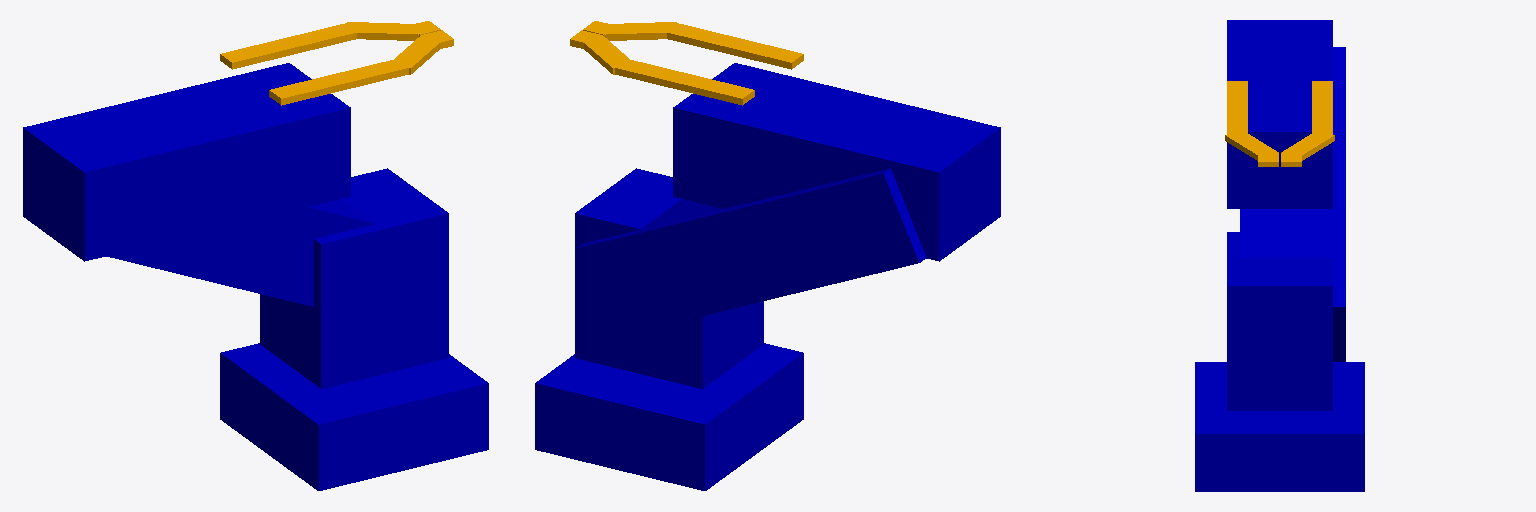
The robot description file, URDF, robot "cobra":
<?xml version="1.0"?>
<robot name="cobra">

  <!-- Mateirals -->
  <material name="blue">
    <color rgba="0 0 0.8 1"/>
  </material>

  <material name="yellow">
    <color rgba="1 0.7 0 1"/>
  </material>

  <!-- Base -->
  <link name="bottom">
    <visual>
      <origin xyz="0 0 0" rpy="0 0 0"/>
      <geometry>
        <box size="0.8 0.8 0.3"/>
      </geometry>
      <material name="blue">
      </material>
    </visual>
    <collision>
      <origin xyz="0 0 0" rpy="0 0 0"/>
      <geometry>
        <box size="0.8 0.8 0.3"/>
      </geometry>
    </collision>
    <inertial>
      <mass value="5.0"/>
      <origin xyz="0 0 0" rpy="0 0 0"/>
      <inertia ixx="0.1" iyy="0.1" izz="0.1" ixy="0" ixz="0" iyz="0"/>
    </inertial>
  </link>

  <!-- Pedestal -->
  <link name="pedestal">
    <visual>
      <origin xyz="0 0 0.3" rpy="0 0 0"/>
      <geometry>
        <box size="0.6 0.5 0.65"/>
      </geometry>
      <material name="blue">
      </material>
    </visual>
    <collision>
      <origin xyz="0 0 0.3" rpy="0 0 0"/>
      <geometry>
        <box size="0.6 0.5 0.65"/>
      </geometry>
    </collision>
    <inertial>
      <mass value="3.0"/>
      <origin xyz="0 0 0.325" rpy="0 0 0"/>
      <inertia ixx="0.05" iyy="0.05" izz="0.05" ixy="0" ixz="0" iyz="0"/>
    </inertial>
  </link>

  <joint name="bottom_to_pedestal" type="revolute">
    <axis xyz="0 0 1"/>
    <limit effort="1000.0" lower="0.0" upper="3.14" velocity="1.0"/>
    <parent link="bottom"/>
    <child link="pedestal"/>
    <origin xyz="0 0 0.25" rpy="0 0 0"/>
  </joint>

  <!-- Arm -->
  <link name="arm">
    <visual>
      <origin xyz="0 0.06 0.6" rpy="0 0 0"/>
      <geometry>
        <box size="0.4 0.5 1.6"/>
      </geometry>
      <material name="blue">
      </material>
    </visual>
    <collision>
      <origin xyz="0 0.06 0.6" rpy="0 0 0"/>
      <geometry>
        <box size="0.4 0.5 1.6"/>
      </geometry>
    </collision>
    <inertial>
      <mass value="4.0"/>
      <origin xyz="0 0.06 0.6" rpy="0 0 0"/>
      <inertia ixx="0.08" iyy="0.08" izz="0.08" ixy="0" ixz="0" iyz="0"/>
    </inertial>
  </link>

  <joint name="pedestal_to_arm" type="revolute">
  
    <axis xyz="0 1 0"/>
    <limit effort="1000.0" lower="0" upper="2.18166157" velocity="1.0"/>  
    <parent link="pedestal"/>
    <child link="arm"/>
    <origin rpy="0 -1.13446401 0" xyz="0 0 0.4"/>
  </joint>

  <!-- Forearm -->
  <link name="forearm">
    <visual>
      <origin xyz="-0.1 0 0.3" rpy="0 0 0"/>
      <geometry>
        <box size="0.4 0.5 1.25"/>
      </geometry>
      <material name="blue">
      </material>
    </visual>
    <collision>
      <origin xyz="-0.1 0 0.3" rpy="0 0 0"/>
      <geometry>
        <box size="0.4 0.5 1.25"/>
      </geometry>
    </collision>
    <inertial>
      <mass value="3.0"/>
      <origin xyz="-0.1 0 0.3" rpy="0 0 0"/>
      <inertia ixx="0.05" iyy="0.05" izz="0.05" ixy="0" ixz="0" iyz="0"/>
    </inertial>
  </link>

  <joint name="arm_to_forearm" type="revolute">
    <axis xyz="0 -1 0"/>
    <limit effort="1000.0" lower="0" upper="2.70526034" velocity="1.0"/>
    <parent link="arm"/>
    <child link="forearm"/>
    <origin rpy="0 2.70526034 0" xyz="0 0 1.2"/>
  </joint>

  <!-- Platform -->
  <link name="platform">
    <visual>
      <origin xyz="0 0 0" rpy="0 0 0"/>
      <geometry>
        <box size="0.03 0.5 0.5"/>
      </geometry>
      <material name="blue">
      </material>
    </visual>
    <collision>
      <origin xyz="0 0 0" rpy="0 0 0"/>
      <geometry>
        <box size="0.03 0.5 0.5"/>
      </geometry>
    </collision>
    <inertial>
      <mass value="0.5"/>
      <origin xyz="0 0 0.25" rpy="0 0 0"/>
      <inertia ixx="0.01" iyy="0.01" izz="0.01" ixy="0" ixz="0" iyz="0"/>
    </inertial>
  </link>

  <joint name="forearm_to_platform" type="fixed">
    <parent link="forearm"/>
    <child link="platform"/>
    <origin xyz="-0.2 0 0.6" rpy="0 0 0"/>
  </joint>

  <!-- Left Gripper -->
  <link name="left_gripper">
    <visual>
      <origin xyz="-0.1 -0.05 0.15" rpy="0 0 0"/>
      <geometry>
        <box size="0.03 0.1 0.6"/> 
      </geometry>
      <material name="yellow">
      </material>
    </visual>
    <collision>
      <geometry>
        <box size="0.03 0.1 0.6"/>
      </geometry>
    </collision>
  </link>

  <joint name="left_gripper_joint" type="revolute">
    <axis xyz="1 0 0"/>
    <limit effort="1000" lower="0" upper="0.523599" velocity="1.0"/>
    <parent link="platform"/>
    <child link="left_gripper"/>
    <origin xyz="-0.1 -0.15 0.15" rpy="0 0 0"/>
  </joint>

    <!-- Left Tip of Gripper -->
  <link name="left_tip_gripper">
    <visual>
      <origin xyz="0 0 0.12" rpy="0 0 0"/>
      <geometry>
        <box size="0.03 0.1 0.3"/> 
      </geometry>
      <material name="yellow">
      </material>
    </visual>
    <collision>
      <geometry>
        <box size="0.03 0.1 0.3"/>
      </geometry>
    </collision>
  </link>

  <joint name="left_tip_gripper_joint" type="fixed">
    <axis xyz="1 0 0"/>
    <parent link="left_gripper"/>
    <child link="left_tip_gripper"/>
    <origin xyz="-0.1 -0.05 0.45" rpy="-0.6 0 0"/>
  </joint>

      <!-- Left point of Tip -->
  <link name="left_point_tip_gripper">
    <visual>
      <origin xyz="0 0.005 0.04" rpy="0 0 0"/>
      <geometry>
        <box size="0.03 0.1 0.1"/> 
      </geometry>
      <material name="yellow">
      </material>
    </visual>
    <collision>
      <geometry>
        <box size="0.03 0.1 0.1"/>
      </geometry>
    </collision>
  </link>

  <joint name="left_point_tip_gripper_joint" type="fixed">
    <axis xyz="1 0 0"/>
    <parent link="left_tip_gripper"/>
    <child link="left_point_tip_gripper"/>
    <origin xyz="0 0 0.25" rpy="0.6 0 0"/>
  </joint>

  <!-- Right Gripper -->
  <link name="right_gripper">
    <visual>
      <origin xyz="-0.1 0.05 0.15" rpy="0 0 0"/>
      <geometry>
        <box size="0.03 0.1 0.6"/>
      </geometry>
      <material name="yellow">
      </material>
    </visual>
    <collision>
      <geometry>
        <box size="0.03 0.1 0.6"/>
      </geometry>
    </collision>
  </link>
  
  <joint name="right_gripper_joint" type="revolute">
    <axis xyz="-1 0 0"/>
    <limit effort="1000" lower="0" upper="0.523599" velocity="1.0"/>
    <parent link="platform"/>
    <child link="right_gripper"/>
    <origin xyz="-0.1 0.15 0.15" rpy="0 0 0"/>
  </joint>

    <!-- Right Tip of Gripper -->
  <link name="right_tip_gripper">
    <visual>
      <origin xyz="0 0 0.12" rpy="0 0 0"/>
      <geometry>
        <box size="0.03 0.1 0.3"/> 
      </geometry>
      <material name="yellow">
      </material>
    </visual>
    <collision>
      <geometry>
        <box size="0.03 0.1 0.3"/>
      </geometry>
    </collision>
  </link>

  <joint name="right_tip_gripper_joint" type="fixed">
    <axis xyz="1 0 0"/>
    <parent link="right_gripper"/>
    <child link="right_tip_gripper"/>
    <origin xyz="-0.1 0.05 0.45" rpy="0.6  0 0"/>
  </joint>

      <!-- Right point of Tip -->
  <link name="right_point_tip_gripper">
    <visual>
      <origin xyz="0 -0.005 0.04" rpy="0 0 0"/>
      <geometry>
        <box size="0.03 0.1 0.1"/> 
      </geometry>
      <material name="yellow">
      </material>
    </visual>
    <collision>
      <geometry>
        <box size="0.03 0.1 0.1"/>
      </geometry>
    </collision>
  </link>

  <joint name="right_point_tip_gripper_joint" type="fixed">
    <axis xyz="1 0 0"/>
    <parent link="right_tip_gripper"/>
    <child link="right_point_tip_gripper"/>
    <origin xyz="0 0 0.25" rpy="-0.6 0 0"/>
  </joint>

  <!-- Gazebo ROS2 Control Plugin -->
  <gazebo>
    <plugin name="gazebo_ros2_control" filename="libgazebo_ros2_control.so"/>
  </gazebo>

</robot>

--- What the picture shows (computed from the rendered views, not written in the file) ---
Views: 3 orthographic renders of the robot side by side, from view 1: azimuth 30°, elevation 25°; view 2: azimuth 150°, elevation 25°; view 3: azimuth 270°, elevation 25°.
Model cobra with 11 links and 10 joints (5 revolute, 5 fixed), rooted at bottom, posed all joints at 0.
Links seen in each view (by area): view 1: forearm, pedestal, bottom, arm, right_gripper, left_gripper, right_tip_gripper, left_tip_gripper; view 2: forearm, arm, bottom, pedestal, left_gripper, right_gripper, left_tip_gripper, right_tip_gripper; view 3: bottom, pedestal, forearm, arm, right_gripper, left_gripper, left_tip_gripper, right_tip_gripper.
Boxes of the visible links, x1,y1,x2,y2 form: forearm: [23, 63, 350, 261]; pedestal: [260, 168, 448, 388]; bottom: [220, 343, 488, 490]; arm: [106, 199, 374, 306]; right_gripper: [220, 23, 359, 69]; left_gripper: [269, 59, 408, 105]; right_tip_gripper: [347, 22, 420, 40]; left_tip_gripper: [391, 36, 439, 74]; forearm: [673, 63, 1000, 261]; arm: [575, 168, 926, 337]; bottom: [535, 343, 803, 490]; pedestal: [575, 168, 763, 388]; left_gripper: [664, 23, 803, 69]; right_gripper: [615, 59, 754, 105]; left_tip_gripper: [603, 22, 676, 40]; right_tip_gripper: [584, 36, 631, 74]; bottom: [1195, 362, 1364, 491]; pedestal: [1227, 232, 1332, 410]; forearm: [1227, 20, 1332, 208]; arm: [1240, 47, 1345, 361]; right_gripper: [1312, 81, 1332, 134]; left_gripper: [1227, 81, 1247, 134]; left_tip_gripper: [1225, 130, 1278, 160]; right_tip_gripper: [1281, 130, 1334, 160].
Bounding box of the posed robot: 1.82 × 0.8 × 1.72 m (x, y, z).
Geometry: primitives only (box / cylinder / sphere), no mesh files.